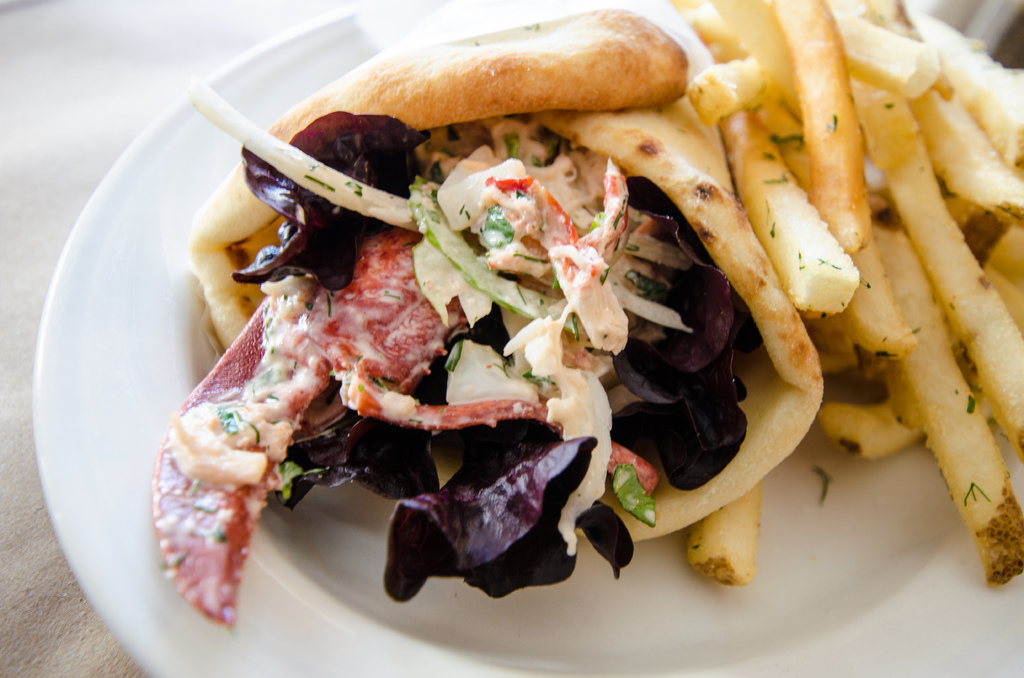French fries: (645, 0, 1024, 584)
